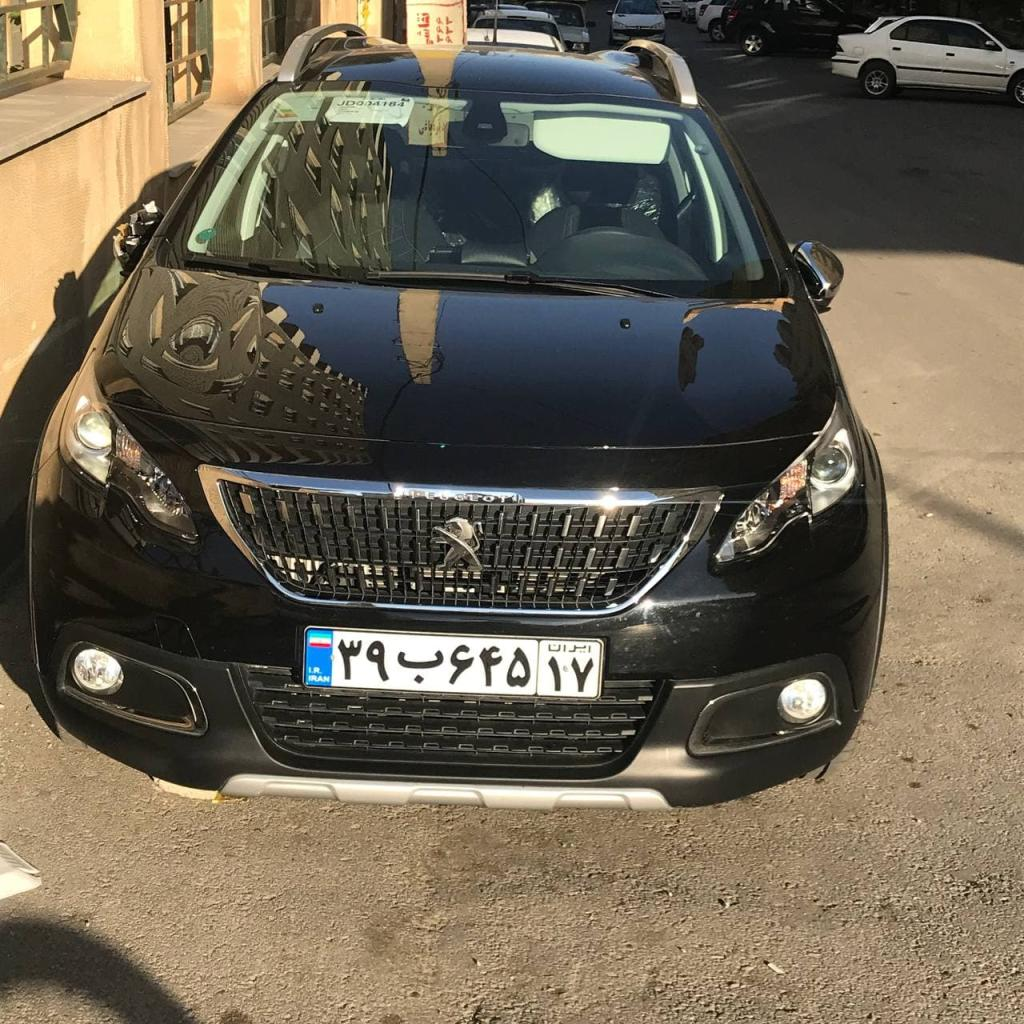Plates: (304, 627, 603, 698)
